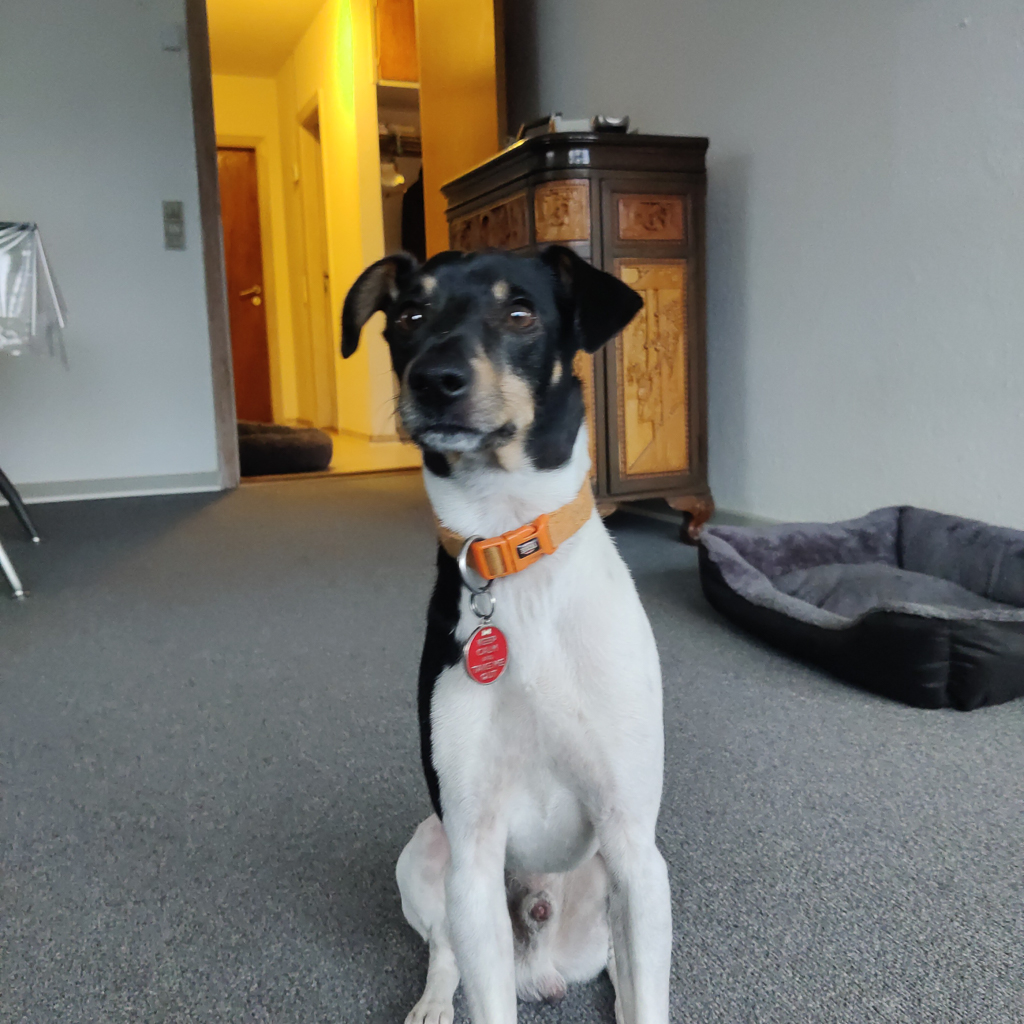Dog: (308, 228, 698, 1024)
